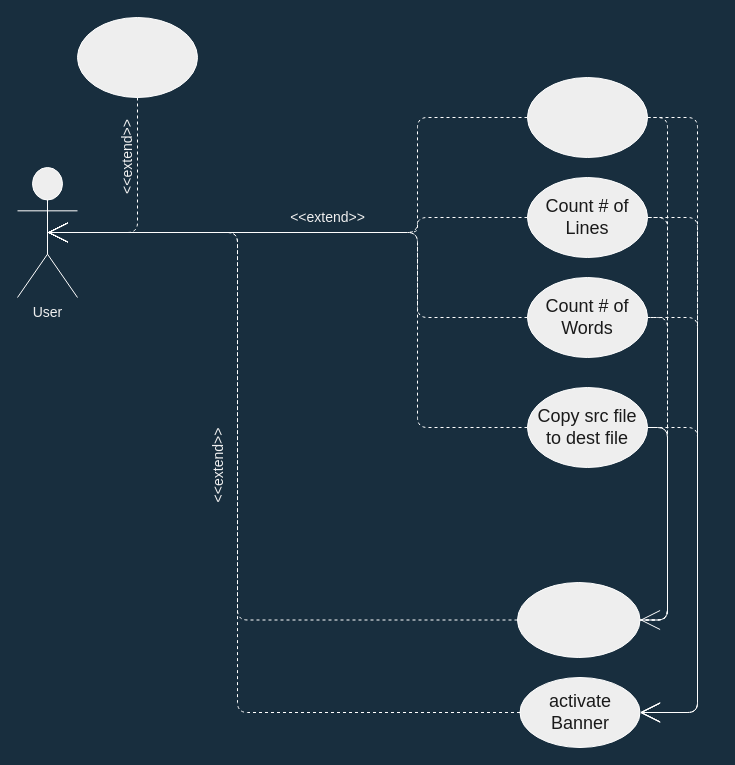
Some shapes in this 735 by 765 pixel diagram are drawn without their labels. The shapes that lost their labels are listed below. From the top down, each one's centre as x and y in pixels, then its label:
At point (137, 57): "print usage".
At point (587, 117): "Count # of Chars".
At point (578, 620): "activate Verbose".
